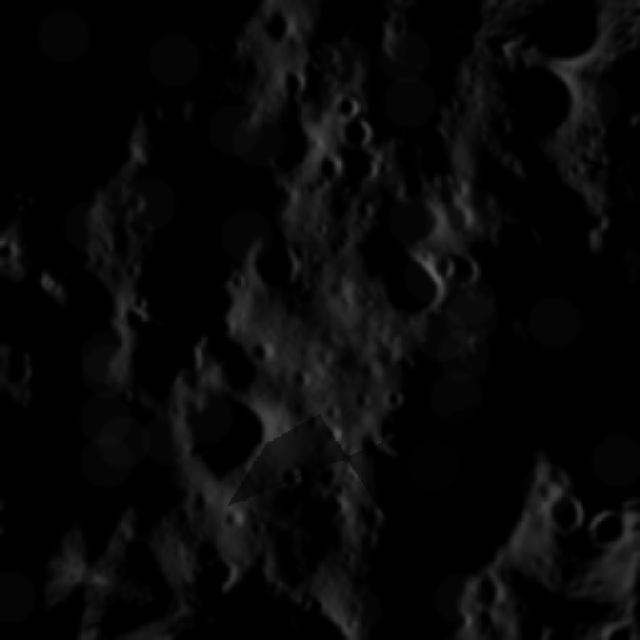crater: (160, 368, 308, 507), (477, 48, 606, 168), (350, 231, 461, 335), (228, 222, 324, 312), (307, 132, 399, 205), (521, 476, 597, 550), (458, 559, 524, 624), (322, 105, 388, 161), (322, 84, 371, 127)
